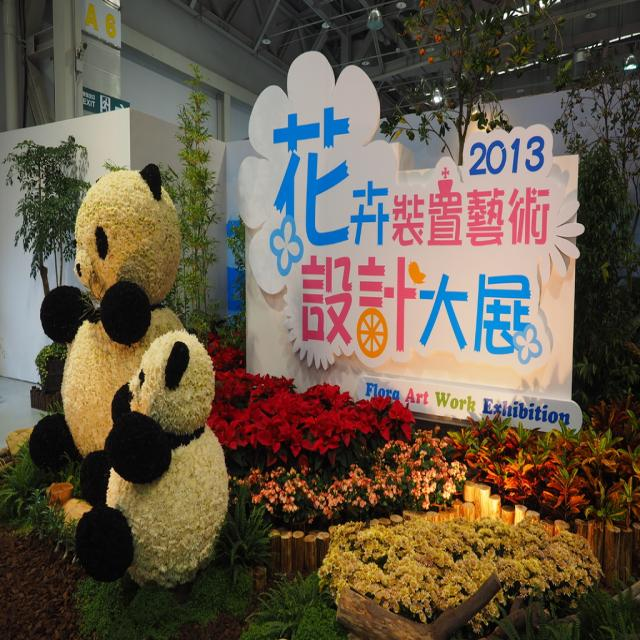panda: (26, 161, 187, 505), (72, 320, 232, 592)
